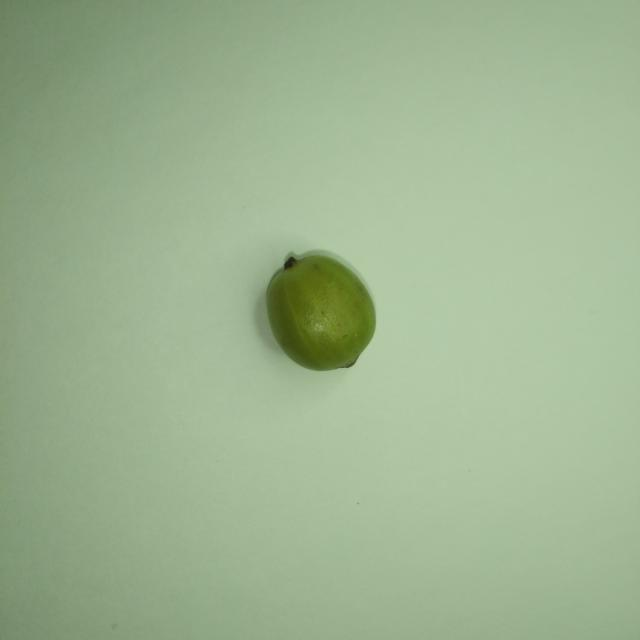Sano: (266, 252, 375, 370)
